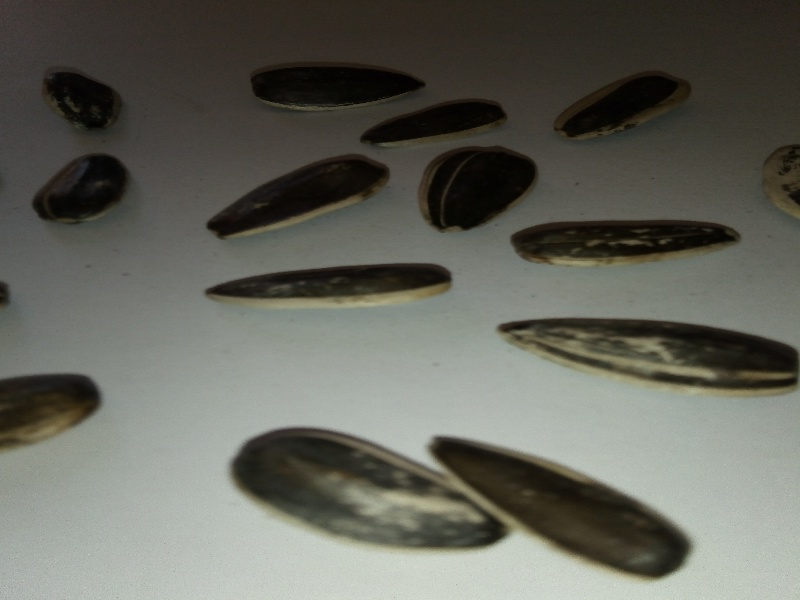w: (488, 303, 800, 404), (195, 253, 467, 323), (199, 153, 398, 246), (501, 217, 751, 271), (24, 150, 134, 230)
